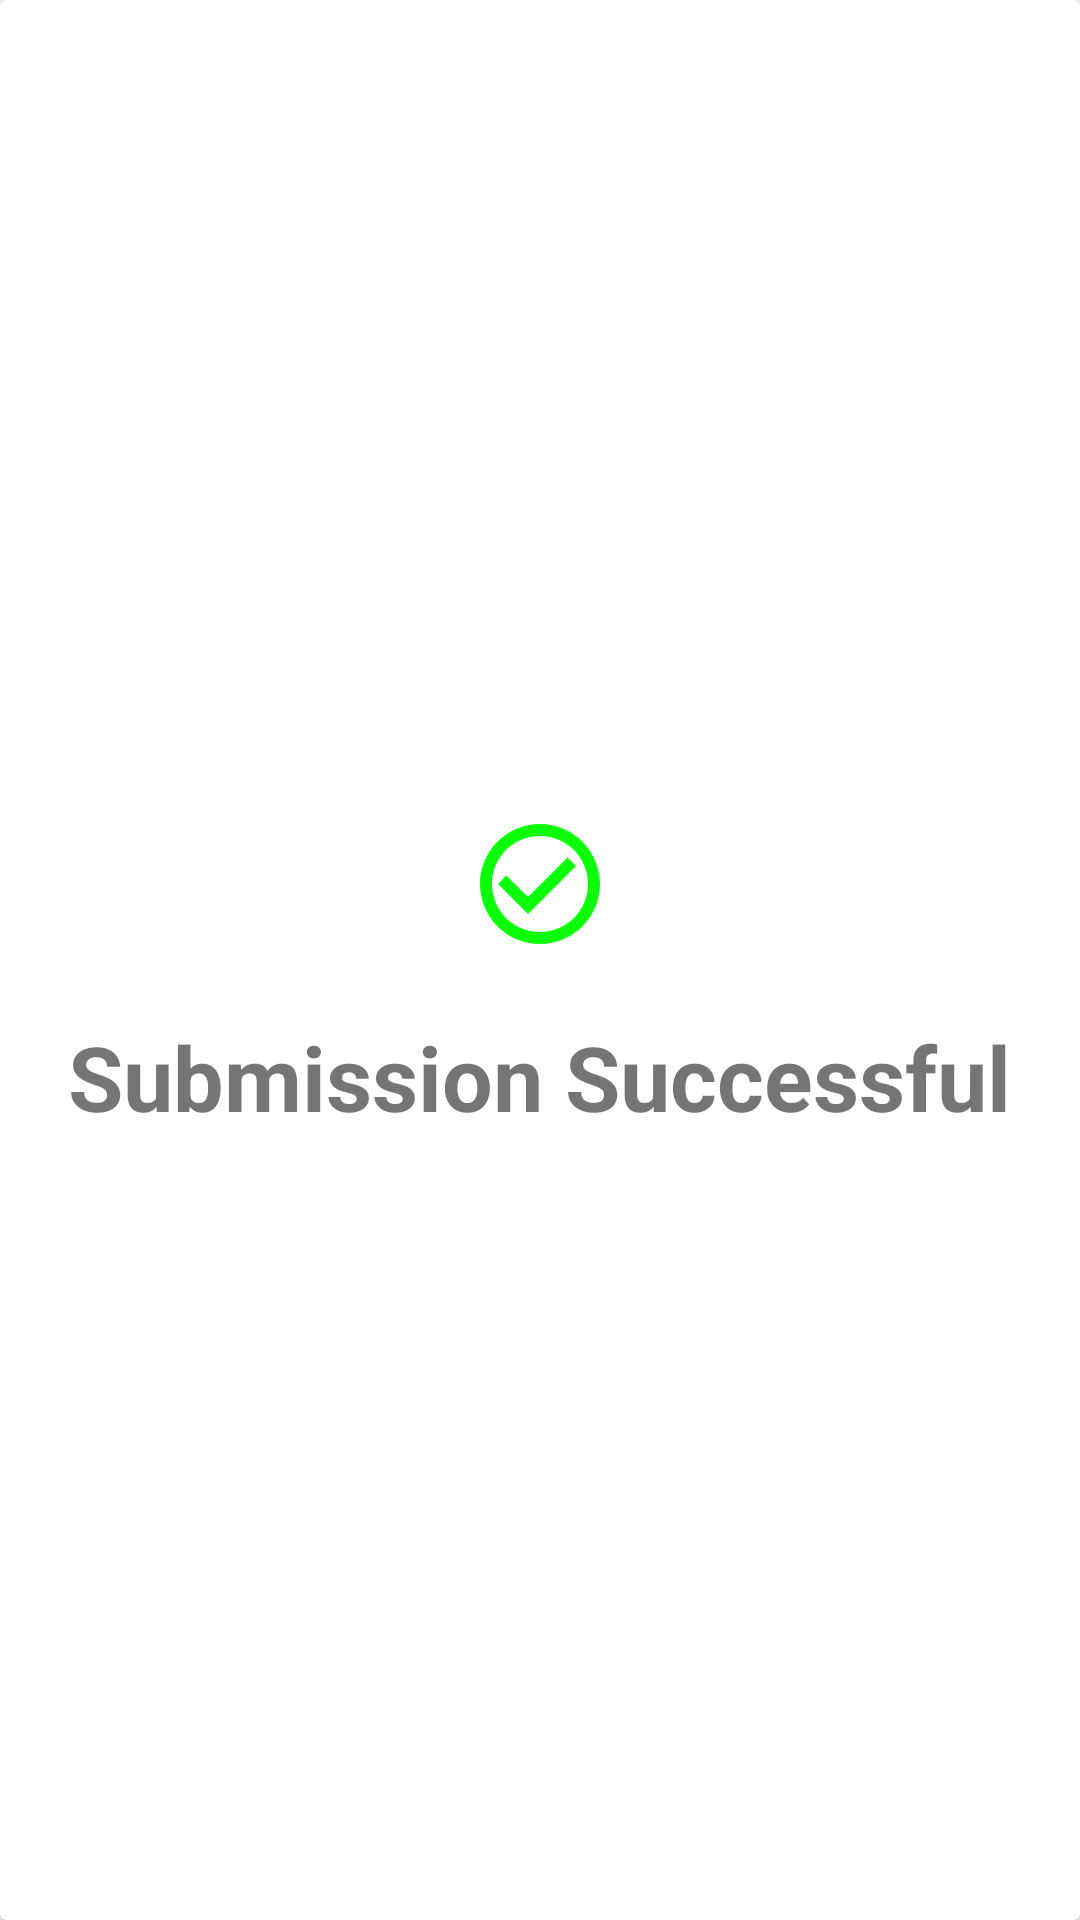

Where icons sit on this 1080x1920 app screen, as [x1=x1, y1=y1, x2=x2, y2=y2]:
check circle: [x1=480, y1=824, x2=600, y2=944]
